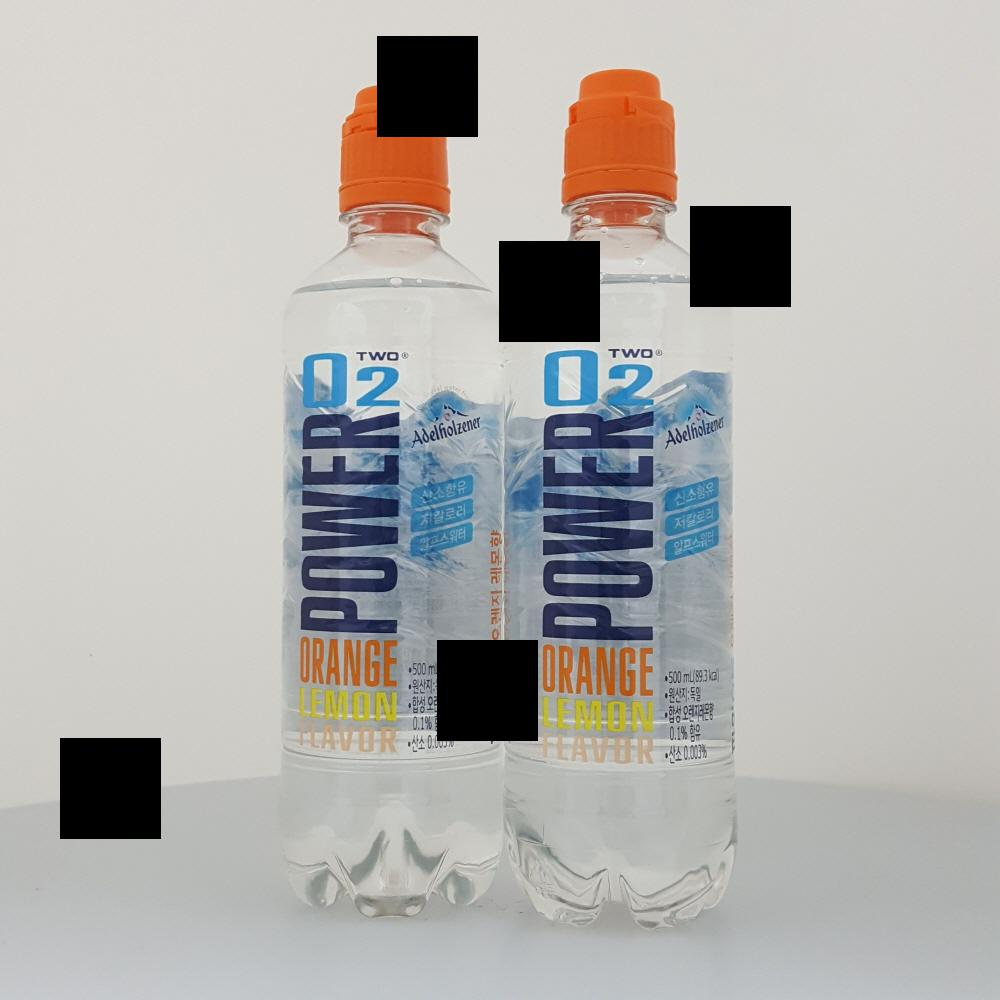powerO2_orange: (496, 74, 771, 949), (256, 61, 515, 929)
